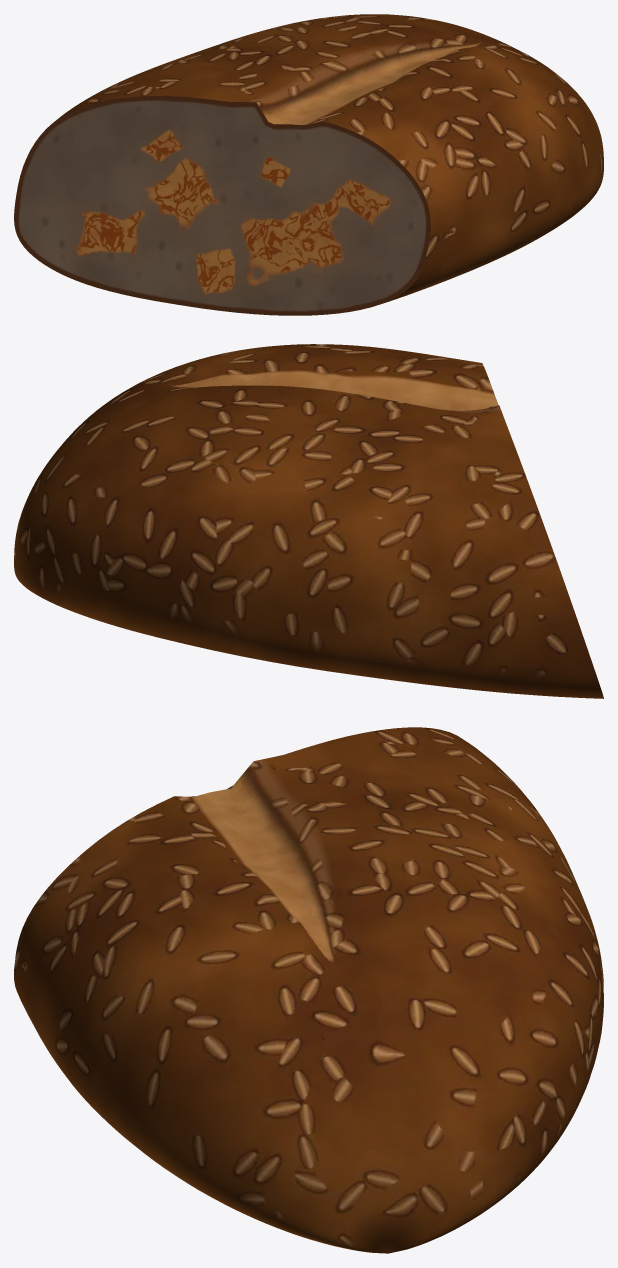
The model's file is rye--apricot-dried.glb.
3 views of the same model, one above another, from view 1: azimuth 30°, elevation 25°; view 2: azimuth 150°, elevation 25°; view 3: azimuth 270°, elevation 25° (orthographic). The views are drawn at different scales.
Parts seen in each view (by area): view 1: rye_apricot-dried; view 2: rye_apricot-dried; view 3: rye_apricot-dried.
Boxes of the visible parts, box(x1,y1,x2,y2) form: rye_apricot-dried: box(14, 14, 603, 315); rye_apricot-dried: box(14, 344, 603, 698); rye_apricot-dried: box(14, 727, 603, 1253).
Bounding box in the file's own units: 0.8572 × 0.294 × 0.6132.
Materials: 1 (1 with a texture image).
